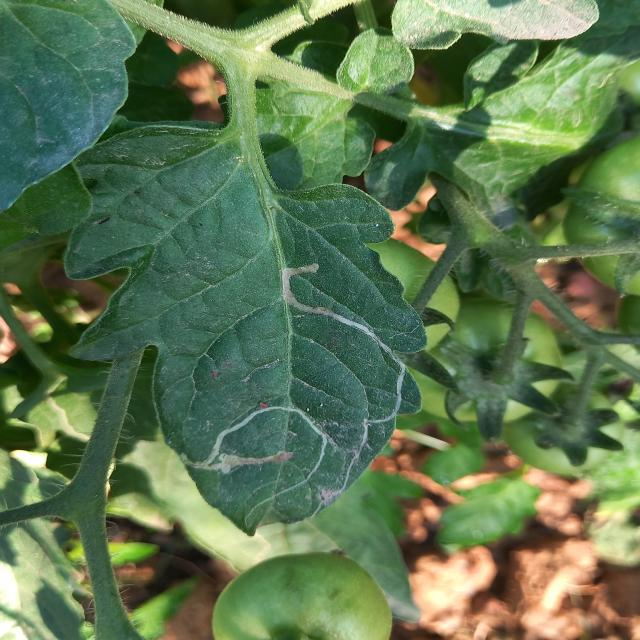Tuta absoluta: (268, 250, 427, 420), (180, 386, 345, 533)
